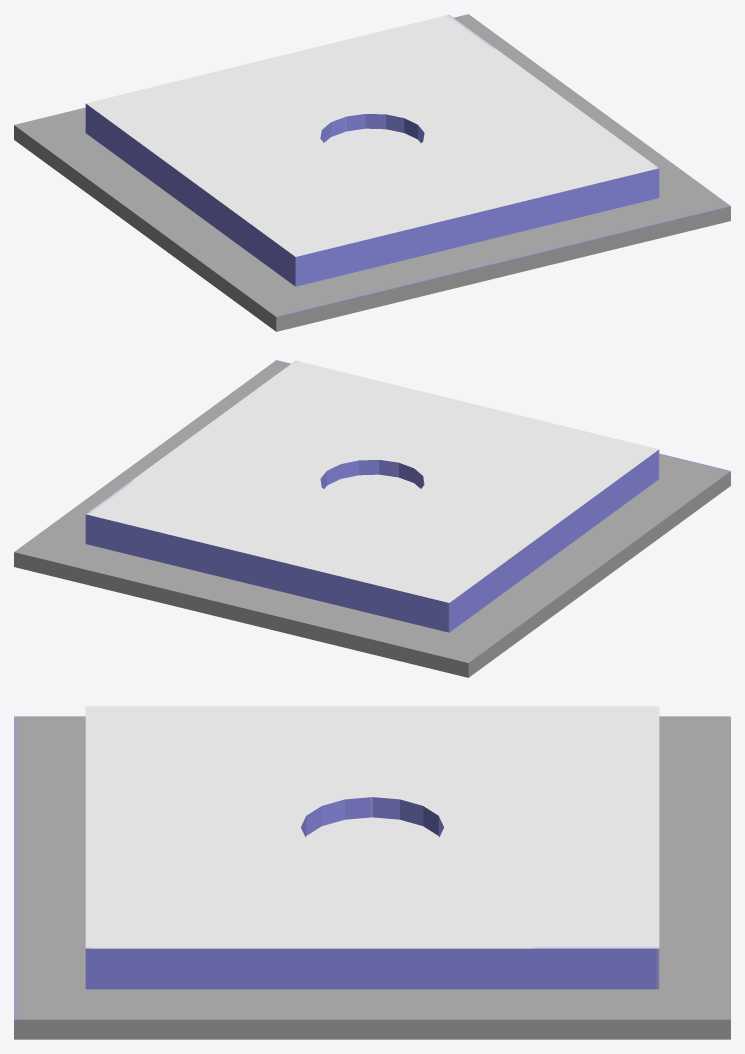
File: circle_switch.glb
3 renders of one model, top to bottom at view 1: azimuth 30°, elevation 25°; view 2: azimuth 150°, elevation 25°; view 3: azimuth 270°, elevation 25°, orthographic. The views are drawn at different scales.
Visible parts, largest first — view 1: Circle_Switch; view 2: Circle_Switch; view 3: Circle_Switch.
Boxes of the visible parts, left/top/right/bottom form: Circle_Switch: left=14, top=14, right=730, bottom=331; Circle_Switch: left=14, top=360, right=730, bottom=677; Circle_Switch: left=14, top=706, right=730, bottom=1039.
Size of what is drawn, in the model's own units: 1.6 by 0.15 by 1.6.
Materials: 1 (1 with a texture image).
